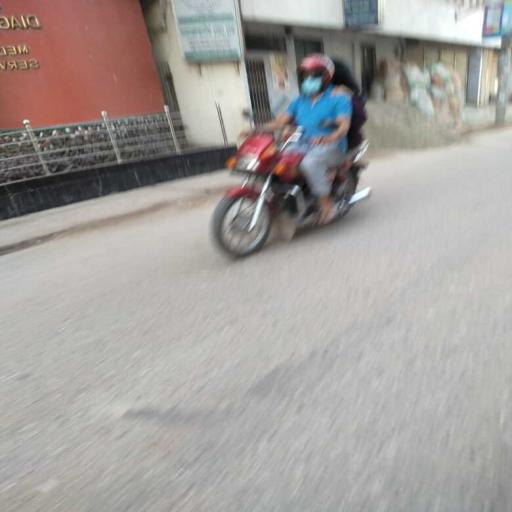helmet: (295, 52, 336, 97)
overloading: (206, 112, 374, 260)
